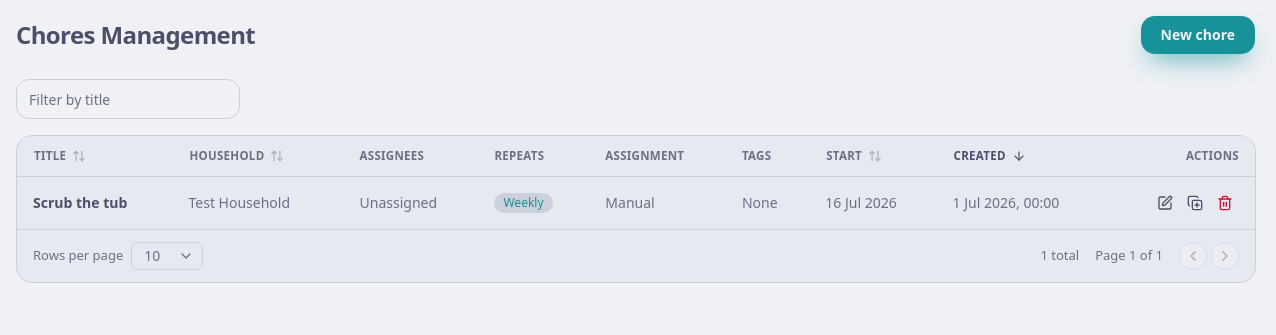
Test: Chores › stays put and explains itself when the source chore cannot be read
Click the button named "Clone".
click(1195, 202)  # box [1181, 188, 1209, 216]
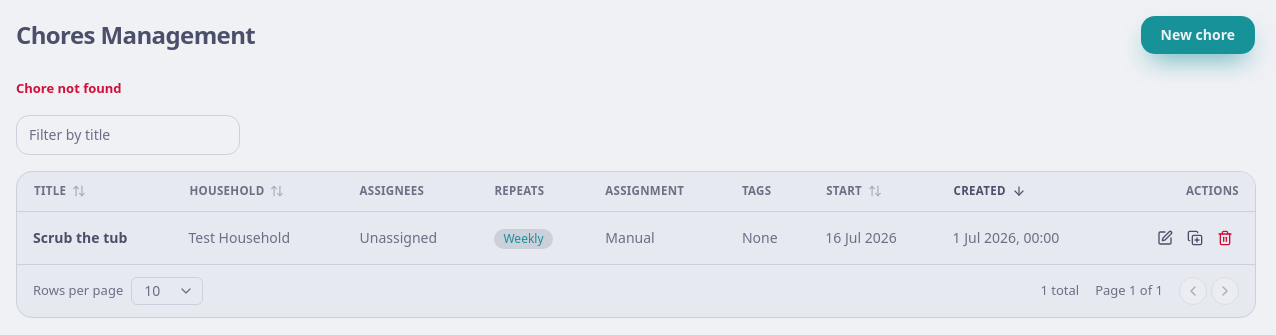
Result: the text "Chore not found" is shown at [16, 79, 122, 97]
